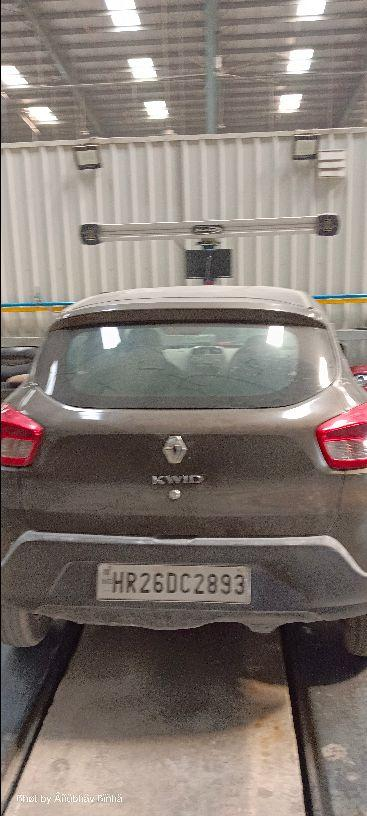license_plate: (94, 561, 252, 604)
